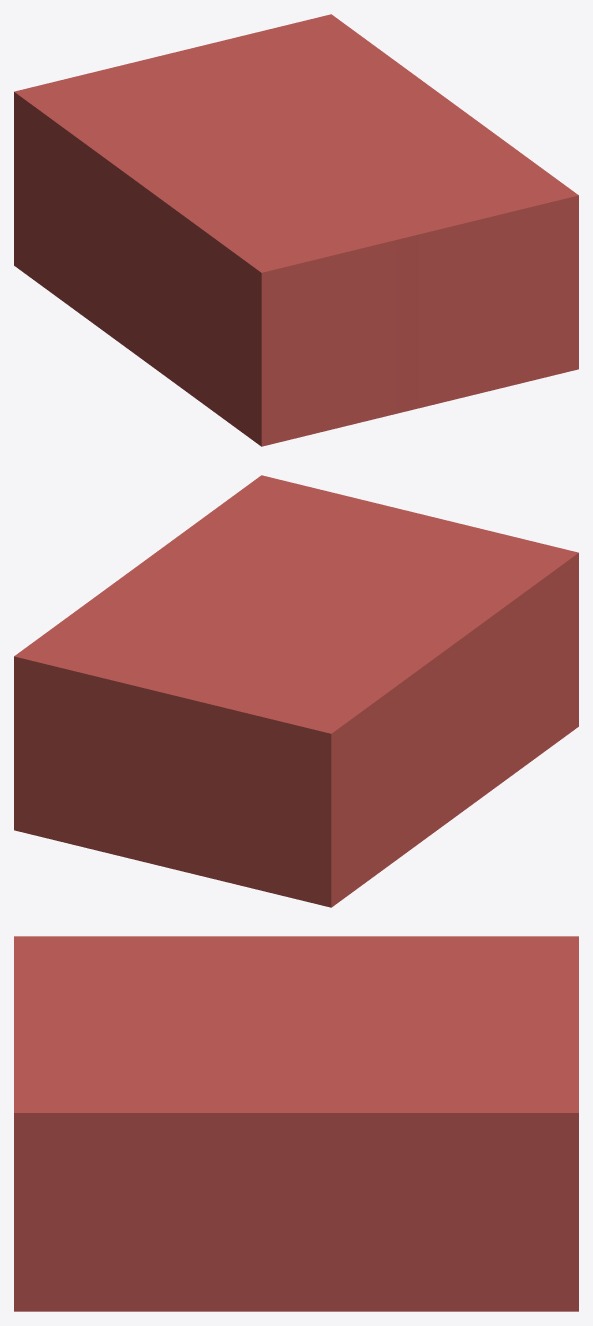
Rendered from D4_HOUSE_OF_DREAMS.fbx.
The picture shows the model from 3 angles, top to bottom: view 1: azimuth 30°, elevation 25°; view 2: azimuth 150°, elevation 25°; view 3: azimuth 270°, elevation 25°; orthographic projection. The views are drawn at different scales.
Visible parts, largest first — view 1: Cube.280; view 2: Cube.280; view 3: Cube.280.
Part boxes in pixels (left/top/right/bottom): Cube.280: left=14, top=14, right=578, bottom=446; Cube.280: left=14, top=475, right=578, bottom=907; Cube.280: left=14, top=936, right=578, bottom=1311.
Bounding box in the file's own units: 822 × 430 × 1110.
19 materials, 7 textured.
